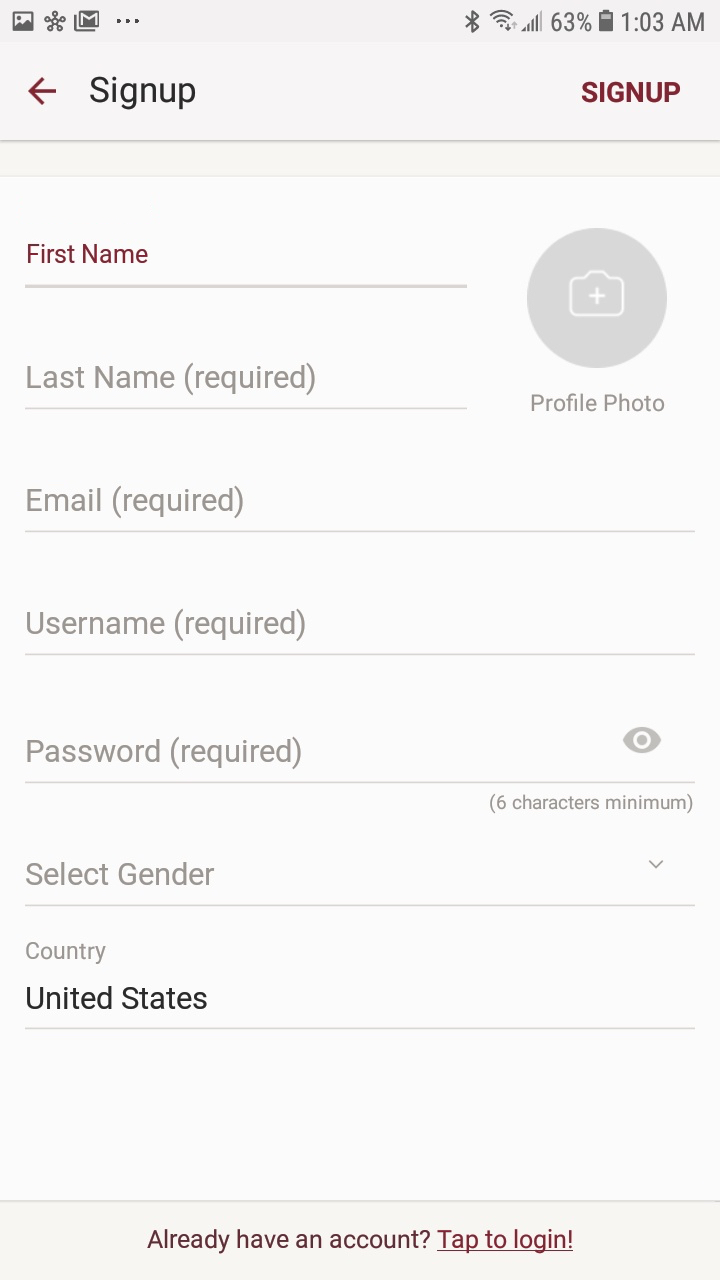EditText: (26, 725, 696, 785), (25, 857, 696, 907), (25, 608, 696, 657), (25, 485, 696, 534), (25, 986, 696, 1031), (25, 362, 469, 411), (25, 243, 468, 290)
Icon: (527, 228, 668, 369), (623, 727, 662, 754), (29, 77, 58, 106), (648, 859, 664, 869)
Text: (27, 362, 316, 396), (27, 735, 303, 770), (27, 609, 306, 642), (27, 485, 245, 519), (27, 861, 216, 886), (27, 985, 208, 1010), (489, 793, 693, 814), (90, 76, 196, 111), (531, 393, 665, 413), (28, 244, 149, 264), (582, 82, 681, 104), (26, 941, 107, 965)
TextButton: (1, 1200, 720, 1280)
UpperTaskBar: (1, 1, 720, 43)
